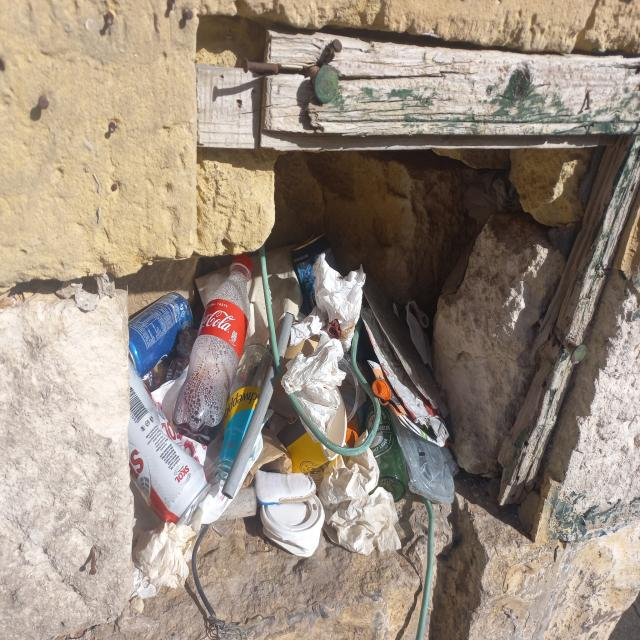Bottle: (170, 252, 254, 443), (215, 344, 274, 490), (363, 400, 408, 502)
Can: (355, 266, 453, 443), (128, 358, 211, 526), (125, 292, 195, 379), (290, 229, 344, 315)
Lid: (259, 495, 323, 558)
Other litter: (264, 247, 370, 446), (132, 435, 233, 595), (276, 382, 347, 476), (233, 409, 269, 500), (257, 470, 319, 506)
Other plastic: (260, 241, 382, 457), (220, 312, 293, 498), (245, 242, 302, 347), (414, 496, 434, 639), (367, 360, 412, 417), (194, 264, 230, 309)
Paper: (320, 430, 405, 555)
Plastic container: (393, 412, 462, 498)
